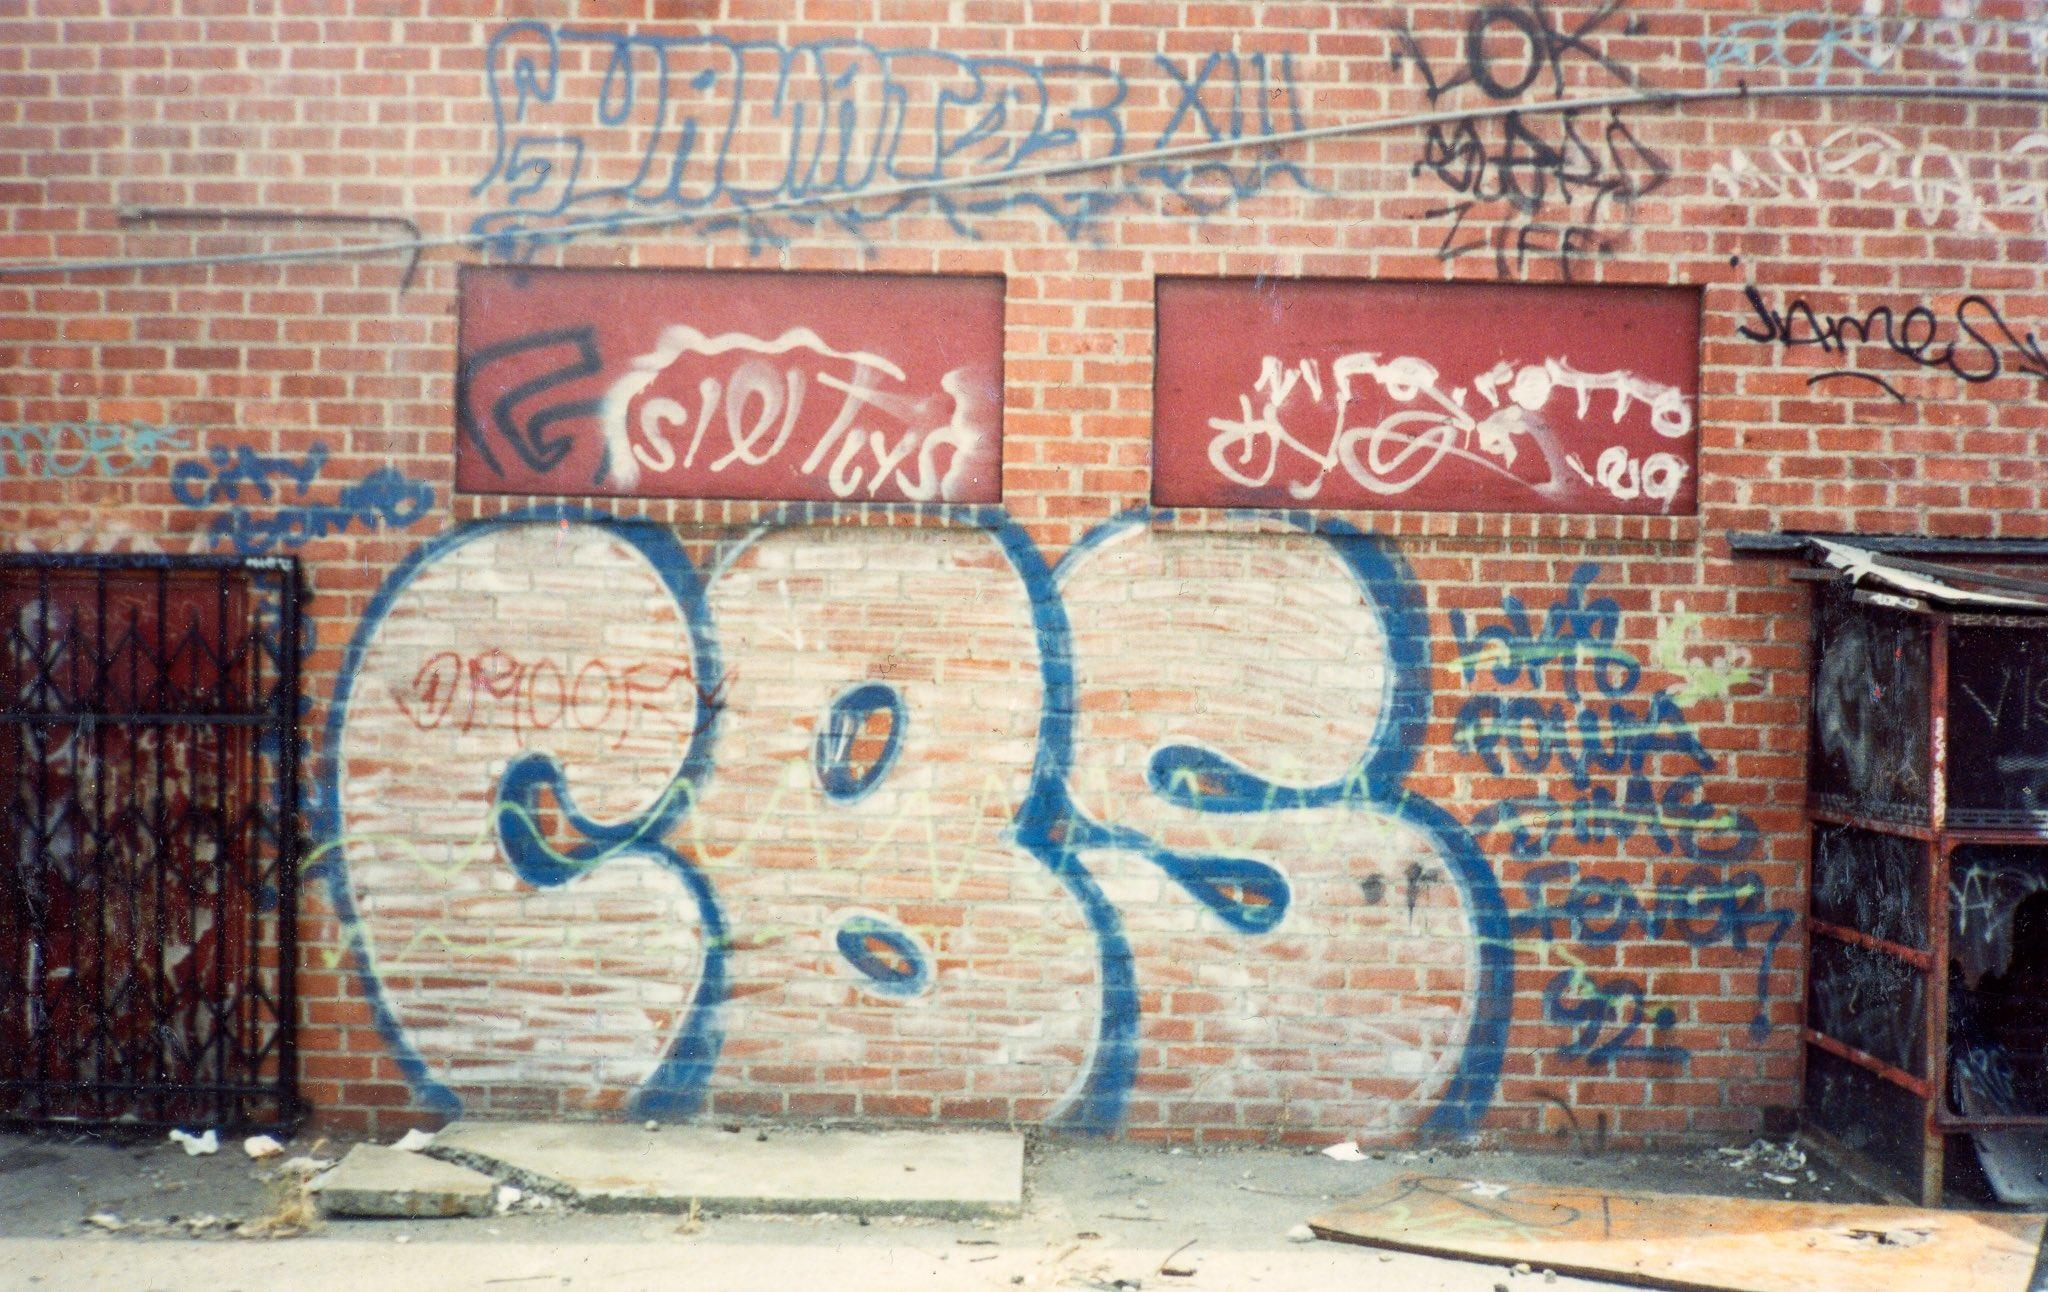graffiti: (256, 555, 1496, 1158), (1432, 576, 1840, 1081), (476, 19, 1302, 232), (457, 280, 993, 500), (1206, 339, 1716, 519), (1404, 116, 1680, 278), (1741, 278, 2048, 400), (1374, 1, 1651, 121), (159, 454, 433, 566), (0, 415, 180, 485), (1963, 627, 2048, 758), (1953, 854, 2042, 965)
